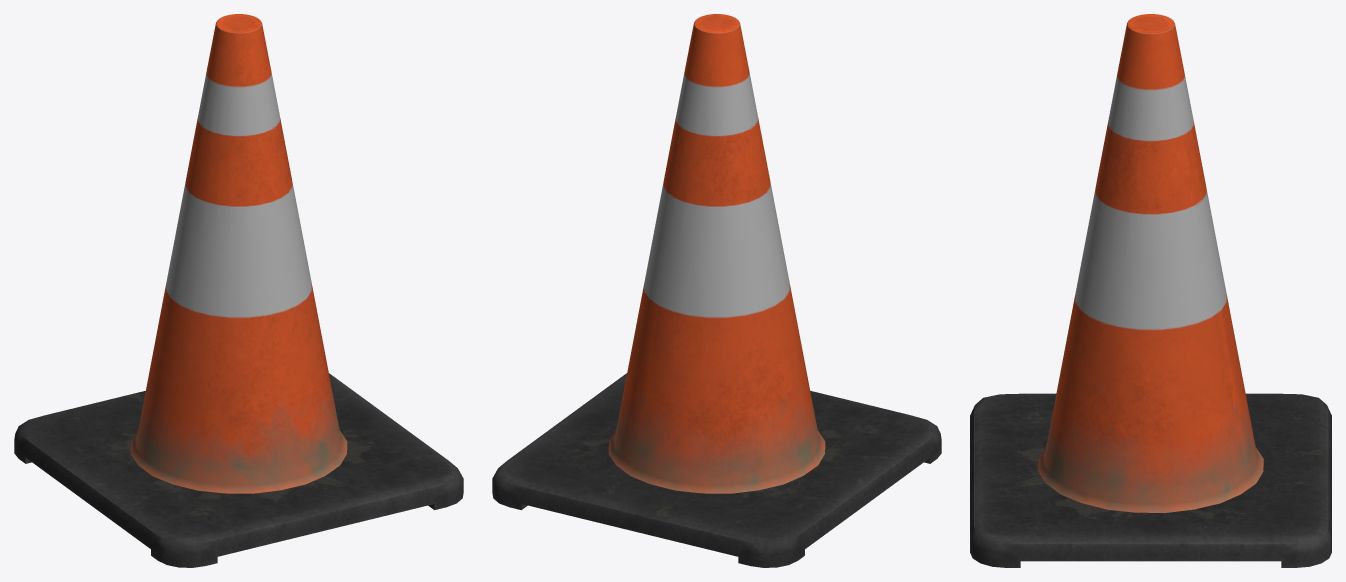
File: traffic_cone_low-poly_pbr.glb
The picture shows the model from 3 angles, left to right: view 1: azimuth 30°, elevation 25°; view 2: azimuth 150°, elevation 25°; view 3: azimuth 270°, elevation 25°; orthographic projection. The views are drawn at different scales.
Parts seen in each view (by area): view 1: traffic_cone; view 2: traffic_cone; view 3: traffic_cone.
Part boxes in pixels (bbox=[...]): traffic_cone: bbox=[14, 14, 463, 567]; traffic_cone: bbox=[492, 14, 941, 567]; traffic_cone: bbox=[970, 14, 1331, 567].
Size of the model in its own units: 0.5 by 0.7132 by 0.5.
1 material, 1 textured.
